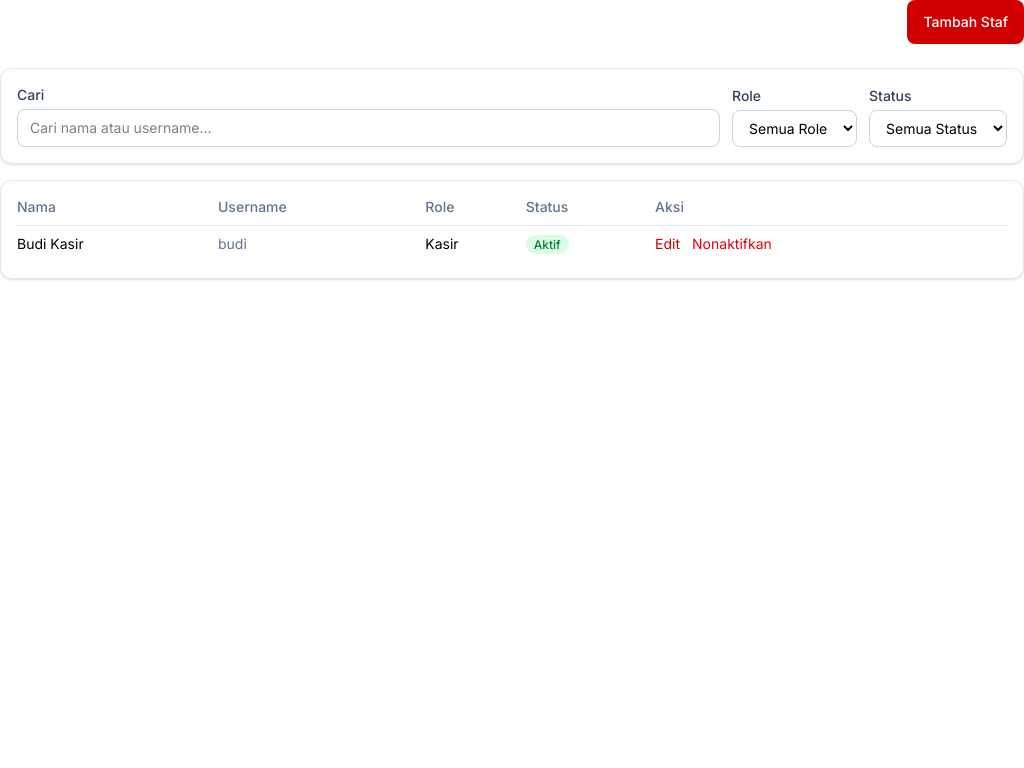
Test: StaffPage › batal konfirmasi nonaktifkan -- deactivateStaff GAK dipanggil, modal ketutup
Expected: the text "Budi Kasir" is shown, [17,226,218,262]
Click the button "Nonaktifkan" at (732, 244), box [692,234,772,254]
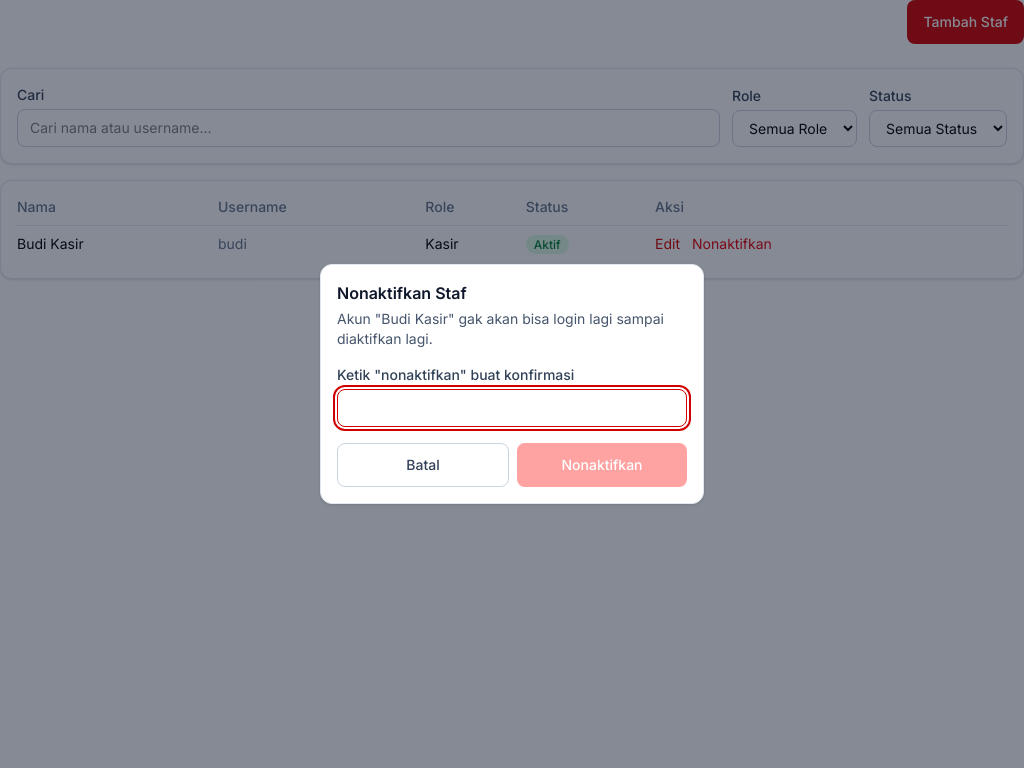
Click the button "Batal" at (423, 465), box [337,443,509,487]
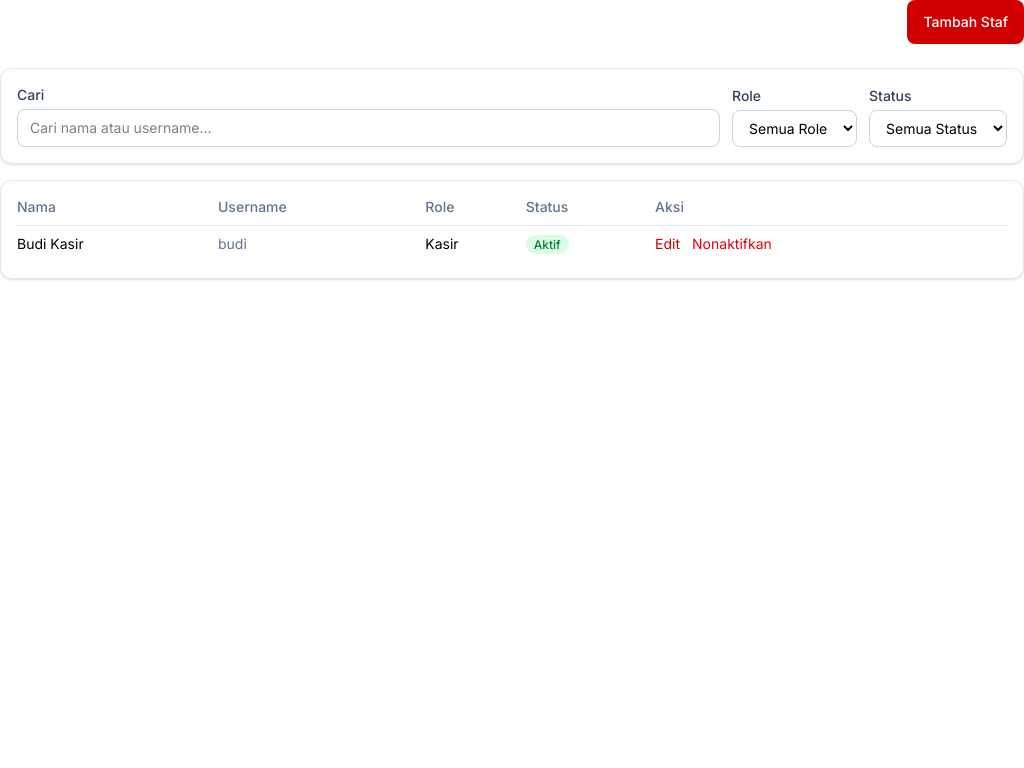
Now the dialog is gone
